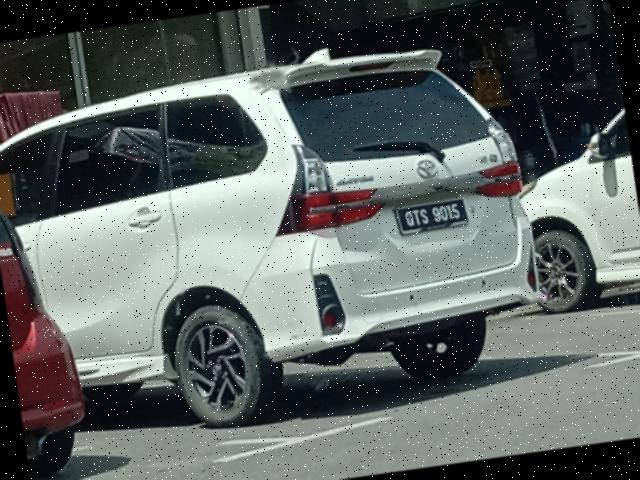License_Plate: (397, 200, 470, 237)
car: (1, 19, 562, 454)
